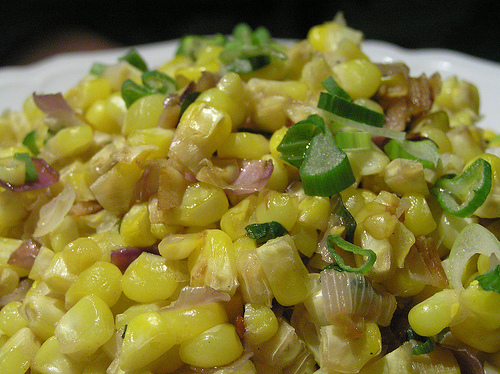corn: (0, 20, 499, 373)
